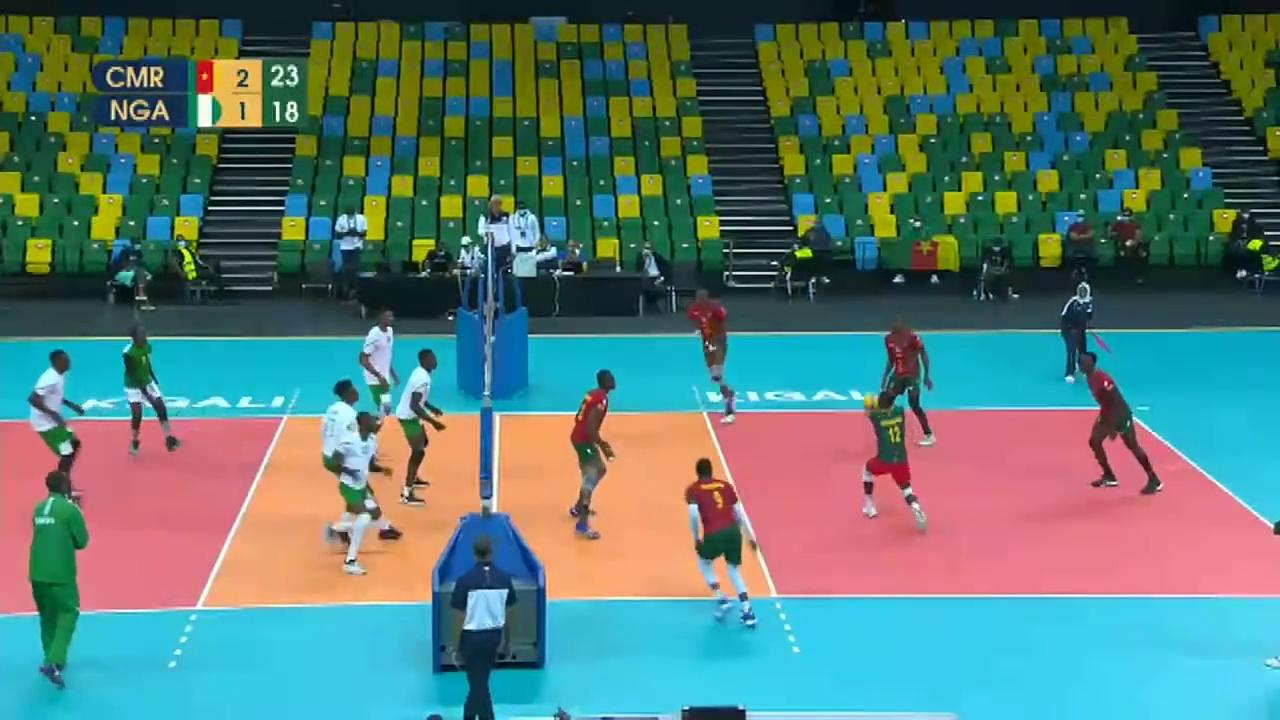player: (685, 455, 774, 634), (322, 380, 408, 540), (1076, 351, 1167, 494), (29, 346, 94, 508), (858, 390, 931, 527), (565, 369, 623, 534), (120, 325, 184, 459), (331, 413, 381, 578), (877, 320, 940, 444), (687, 287, 743, 422), (397, 350, 445, 498), (354, 308, 401, 453)
refree: (449, 529, 521, 717), (476, 195, 519, 305), (1061, 277, 1101, 382)
